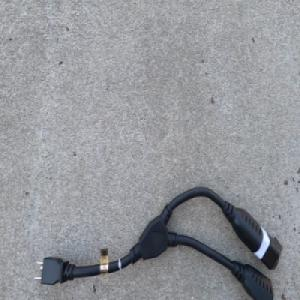Wire: (33, 184, 282, 300)
